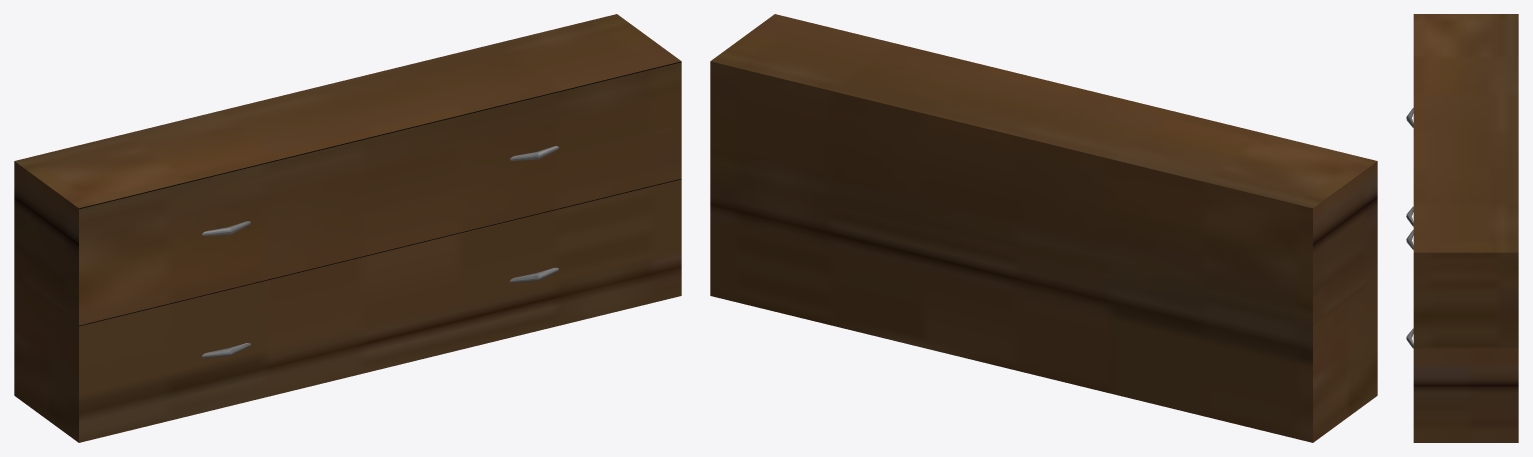
The model's file is standWTextures.fbx.
The picture shows the model from 3 angles, left to right: view 1: azimuth 30°, elevation 25°; view 2: azimuth 150°, elevation 25°; view 3: azimuth 270°, elevation 25°; orthographic projection. The views are drawn at different scales.
Visible parts, largest first — view 1: stand; view 2: stand; view 3: stand.
Boxes of the visible parts, x1,y1,x2,y2 form: stand: (14, 14, 681, 442); stand: (710, 14, 1377, 442); stand: (1413, 14, 1518, 442).
Size of the model in its own units: 53.79 by 20 by 10.69.
Materials: 3 (2 with a texture image).
